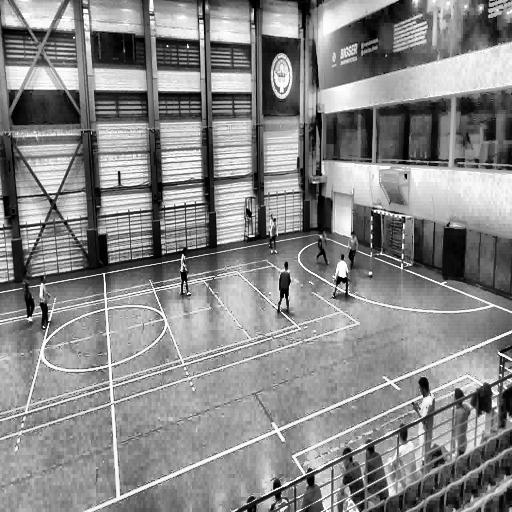ball: (367, 266, 376, 282)
player: (411, 377, 435, 467), (332, 252, 349, 298), (277, 261, 291, 313), (38, 275, 51, 326), (180, 247, 192, 295), (23, 277, 35, 322), (316, 228, 329, 266), (346, 230, 358, 269), (270, 218, 278, 254)
